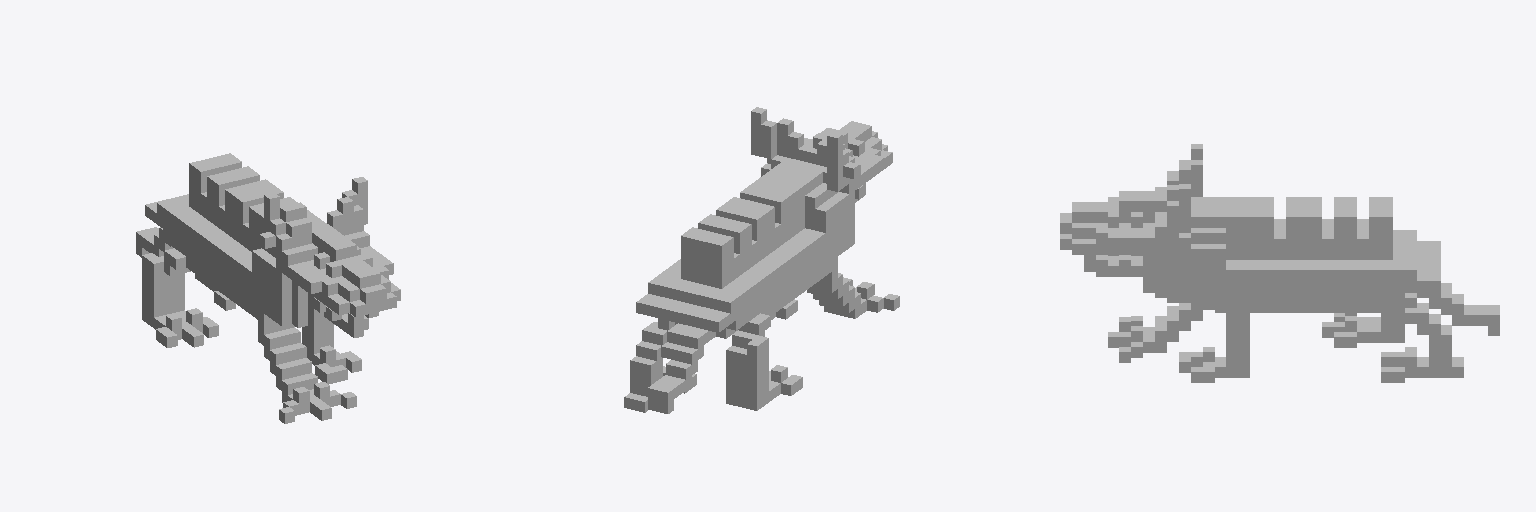
Rendered from wolf.obj.
3 renders of one model, left to right at view 1: azimuth 30°, elevation 25°; view 2: azimuth 150°, elevation 25°; view 3: azimuth 270°, elevation 25°, orthographic.
Visible parts, largest first — view 1: object 1; view 2: object 1; view 3: object 1.
Boxes of the visible parts, <box> form: object 1: <box>136,153,400,423</box>; object 1: <box>624,107,899,413</box>; object 1: <box>1060,144,1499,382</box>.
Size of the model in its own units: 1.2 by 1.8 by 3.7.